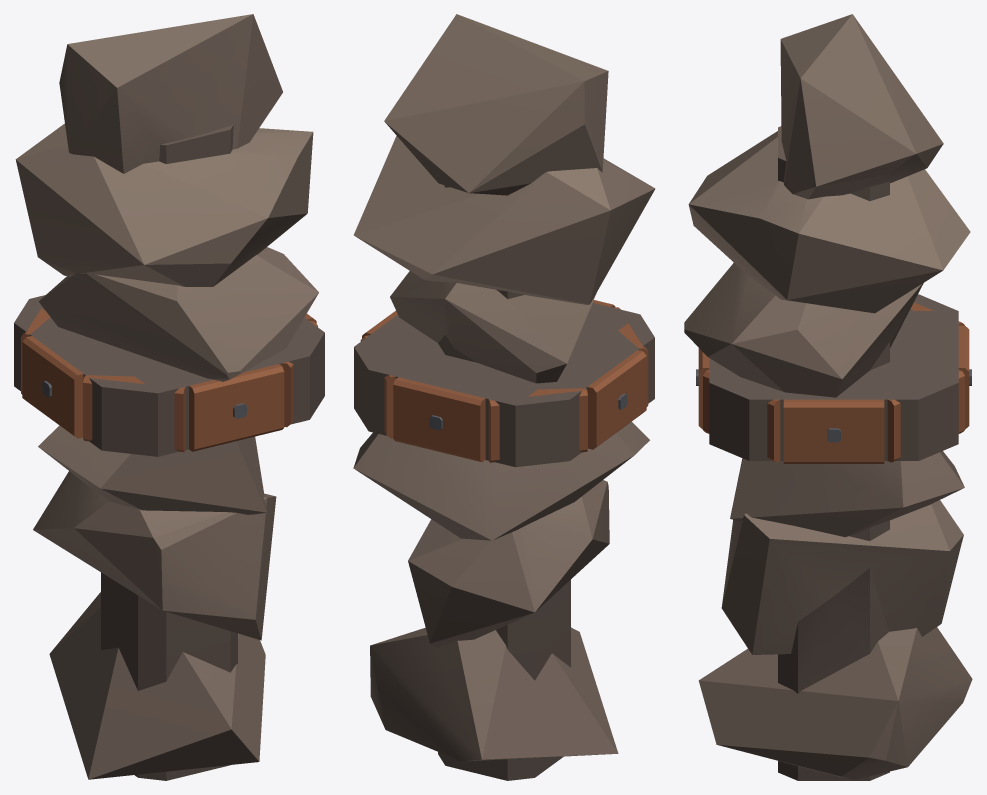
File: wall_cave_pillar_A.glb
The picture shows the model from 3 angles, left to right: view 1: azimuth 30°, elevation 25°; view 2: azimuth 150°, elevation 25°; view 3: azimuth 270°, elevation 25°; orthographic projection. The views are drawn at different scales.
Parts seen in each view (by area): view 1: Item; view 2: Item; view 3: Item.
Boxes of the visible parts, left/top/right/bottom form: Item: left=14, top=14, right=324, bottom=780; Item: left=353, top=14, right=655, bottom=780; Item: left=684, top=14, right=972, bottom=780.
Bounding box in the file's own units: 1.45 × 3.93 × 1.45.
Materials: 2 (2 with a texture image).
